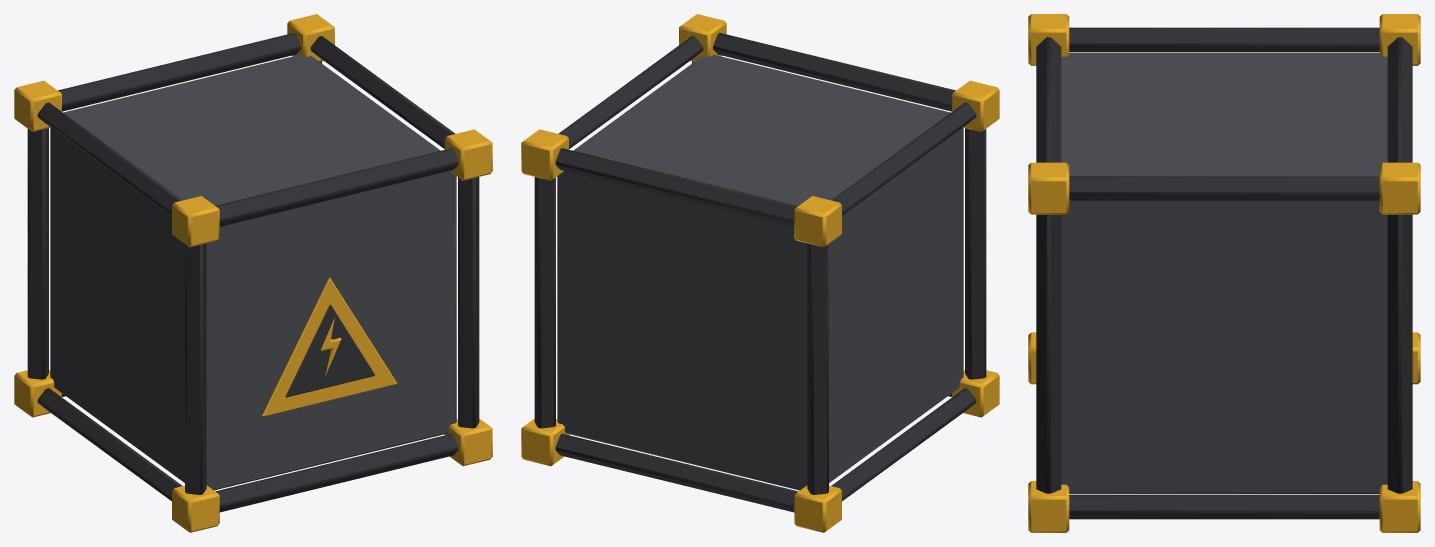
File: Crate.glb
3 views of the same model, side by side, from view 1: azimuth 30°, elevation 25°; view 2: azimuth 150°, elevation 25°; view 3: azimuth 270°, elevation 25° (orthographic). The views are drawn at different scales.
Parts seen in each view (by area): view 1: Crate; view 2: Crate; view 3: Crate.
Part boxes in pixels (left/top/right/bottom): Crate: left=14, top=14, right=492, bottom=532; Crate: left=521, top=14, right=999, bottom=532; Crate: left=1028, top=14, right=1420, bottom=532.
Bounding box in the file's own units: 1.34 × 1.34 × 1.34.
